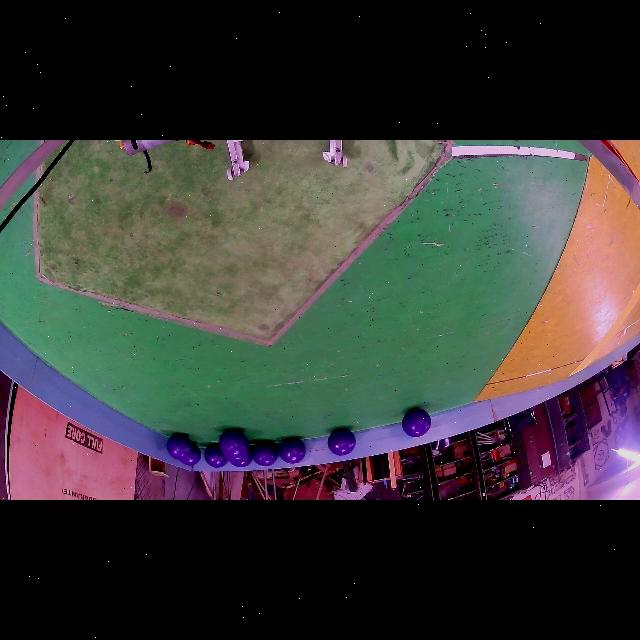P: (219, 429, 249, 460), (402, 408, 431, 438), (328, 429, 356, 456), (279, 438, 306, 464), (166, 434, 192, 460), (251, 441, 278, 466), (204, 444, 228, 468), (181, 442, 201, 466), (229, 450, 252, 468)
